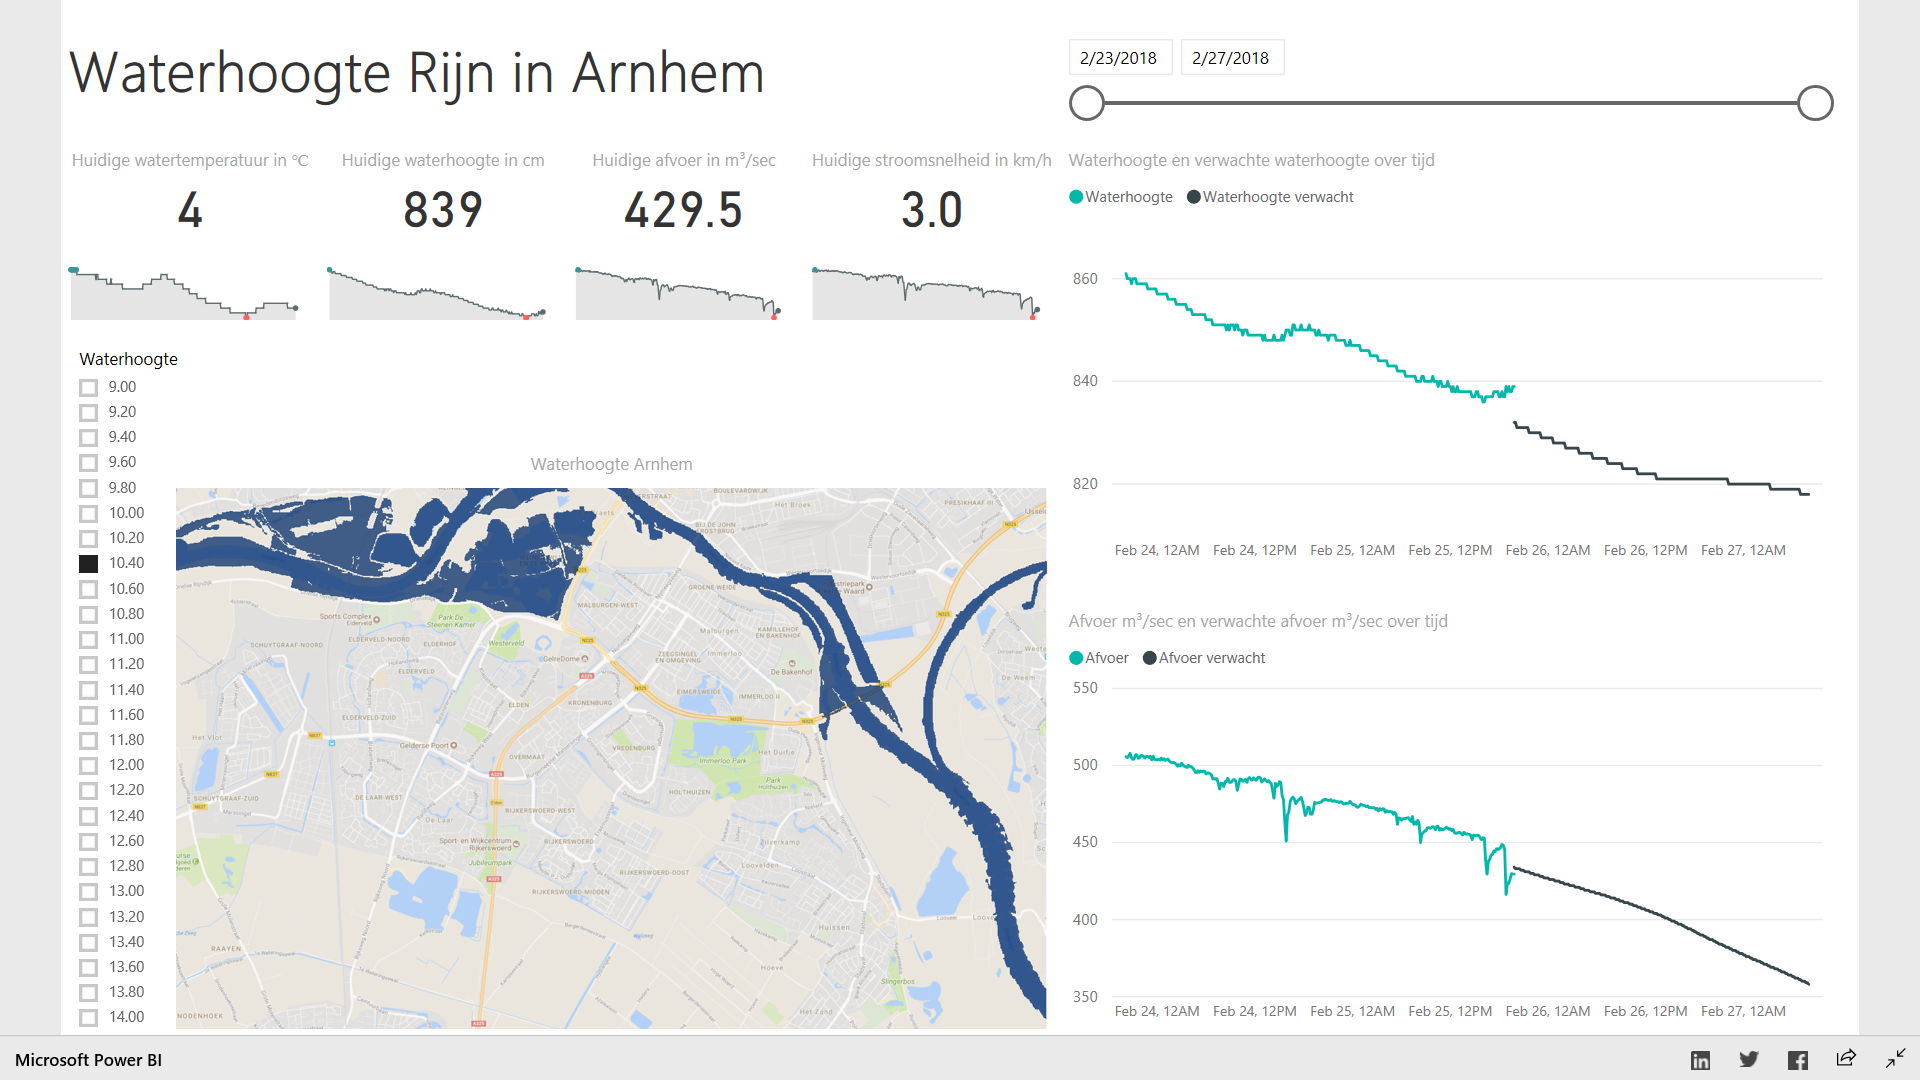

What the dashboard file says about the page in this screenshot:
{"tool":"powerbi","page":{"name":"Waterhoogte Rijn in Arnhem","canvas":[1280,720],"ordinal":0},"visuals":[{"type":"lineChart","fields":{"Category":["Rijnstanden.DateTime","Rijnstanden.Time"],"Y":["Avg(Rijnstanden.Waterhoogte)","Avg(Rijnstanden.Waterhoogte verwacht)"]},"box":[712,88,568,304],"z":0},{"type":"lineChart","fields":{"Category":["Rijnstanden.DateTime","Rijnstanden.Time"],"Y":["Avg(Rijnstanden.Afvoer m3/sec)","Sum(Rijnstanden.Afvoer verwacht m3/sec)"]},"box":[712,416,568,304],"z":0},{"type":"textbox","box":[0,0,512,64],"z":7},{"type":"slicer","fields":{"Values":["Rijnstanden.Date"]},"box":[704,0,568,80],"z":8},{"type":"PBI_CV_885EF3C3_31C1_4745_B2B9_20771D5AD196","fields":{"category":["WaterstandImage.ImageUrl"]},"box":[72,304,640,416],"z":8},{"type":"PBI_CV_7B952816_A48F_49B4_9E13_15E3BB2C0337","fields":{"axis":["WaterTemperatuur.DateTime"],"Values":["Avg(WaterTemperatuur.WaterTemperatuur)"]},"box":[0,88,184,128],"z":9},{"type":"slicer","fields":{"Values":["WaterstandImage.Waterhoogte"]},"box":[0,224,120,496],"z":9},{"type":"PBI_CV_7B952816_A48F_49B4_9E13_15E3BB2C0337","fields":{"Values":["Avg(Rijnstanden.Waterhoogte)"],"axis":["Rijnstanden.DateTime"]},"box":[184,88,176,128],"z":10},{"type":"PBI_CV_7B952816_A48F_49B4_9E13_15E3BB2C0337","fields":{"Values":["Avg(Rijnstanden.Afvoer m3/sec)"],"axis":["Rijnstanden.DateTime"]},"box":[360,88,168,128],"z":11},{"type":"PBI_CV_7B952816_A48F_49B4_9E13_15E3BB2C0337","fields":{"axis":["Rijnstanden.DateTime"],"Values":["Sum(Rijnstanden.Stroomsnelheid)"]},"box":[528,88,184,128],"z":11}]}

Visuals, with their boxes in screenshot pixels (x1, y1, x2, y2):
lineChart - Rijnstanden.DateTime x Rijnstanden.Time: (928, 95, 1768, 545)
lineChart - Rijnstanden.DateTime x Rijnstanden.Time: (928, 580, 1768, 1030)
textbox: (0, 0, 632, 60)
slicer - Rijnstanden.Date: (916, 0, 1757, 83)
PBI_CV_885EF3C3_31C1_4745_B2B9_20771D5AD196 - WaterstandImage.ImageUrl: (0, 415, 928, 1030)
PBI_CV_7B952816_A48F_49B4_9E13_15E3BB2C0337 - WaterTemperatuur.DateTime x Avg(WaterTemperatuur.WaterTemperatuur): (0, 95, 147, 285)
slicer - WaterstandImage.Waterhoogte: (0, 296, 53, 1030)
PBI_CV_7B952816_A48F_49B4_9E13_15E3BB2C0337 - Avg(Rijnstanden.Waterhoogte) x Rijnstanden.DateTime: (147, 95, 408, 285)
PBI_CV_7B952816_A48F_49B4_9E13_15E3BB2C0337 - Avg(Rijnstanden.Afvoer m3/sec) x Rijnstanden.DateTime: (408, 95, 656, 285)
PBI_CV_7B952816_A48F_49B4_9E13_15E3BB2C0337 - Rijnstanden.DateTime x Sum(Rijnstanden.Stroomsnelheid): (656, 95, 928, 285)
